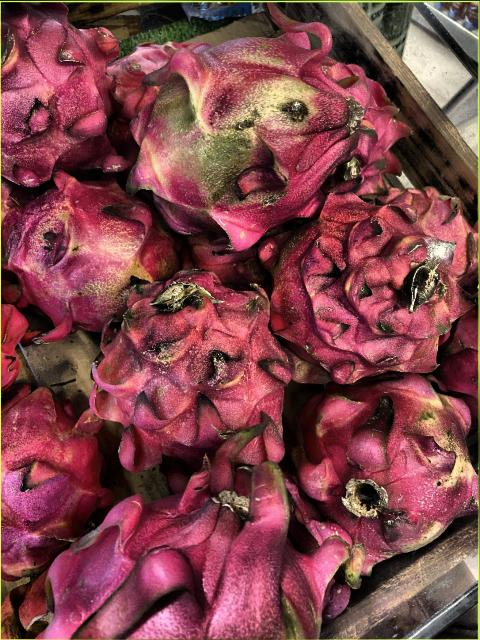buah-naga-belum-matang: (51, 480, 344, 640), (135, 40, 363, 220), (308, 376, 476, 570), (0, 192, 178, 316)
buah-naga-matang: (266, 184, 480, 366), (114, 277, 294, 465), (0, 0, 136, 194), (6, 378, 106, 578)
